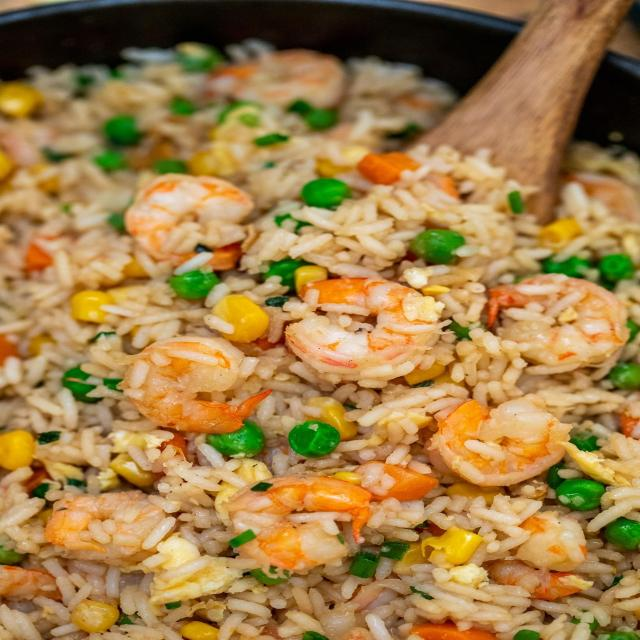Nasi Goreng: (2, 42, 638, 637)
